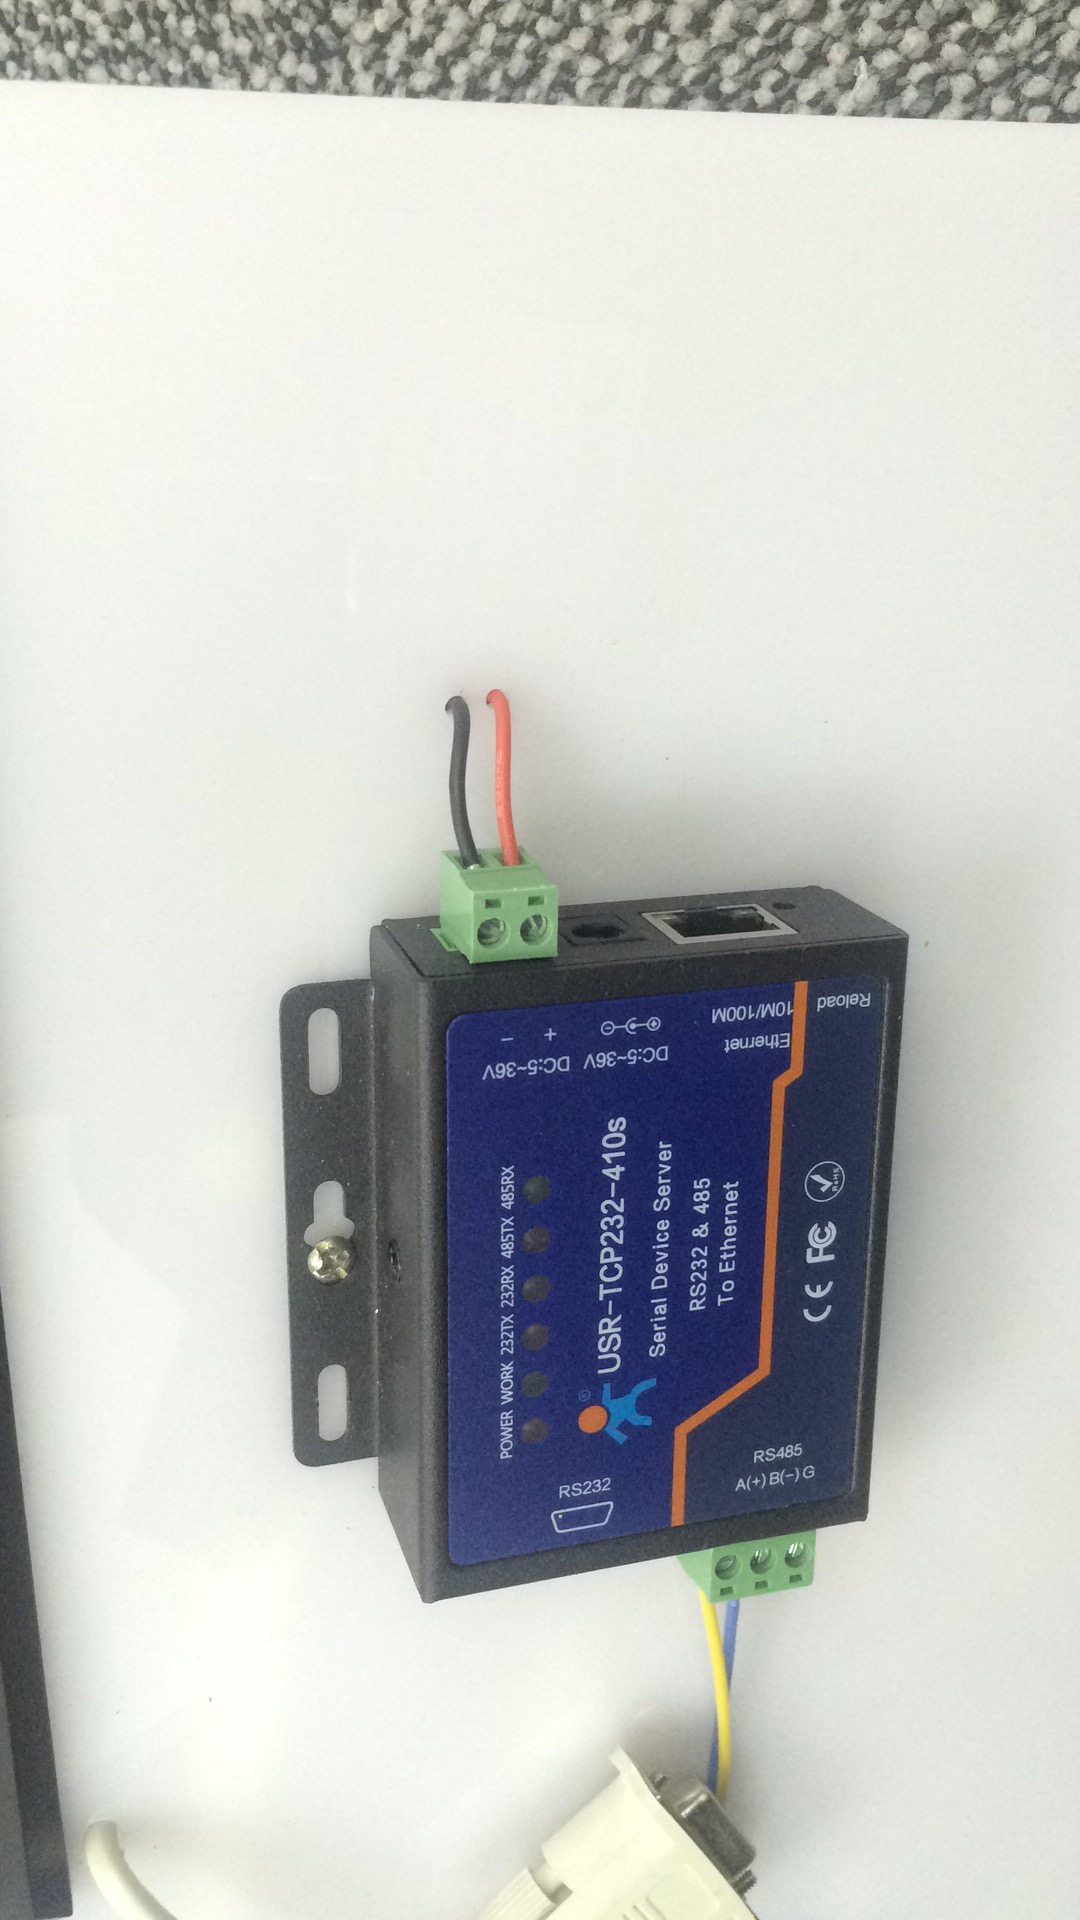modbus bridge: (251, 822, 919, 1644)
